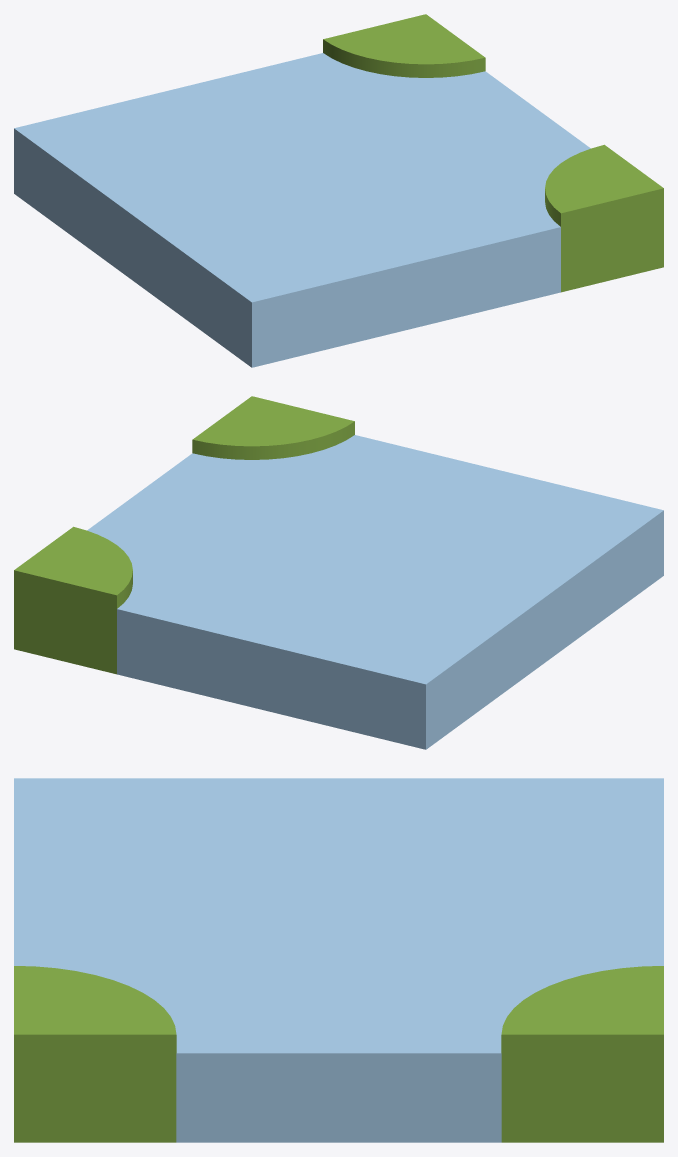
Rendered from tile097.fbx.
3 views of the same model, one above another, from view 1: azimuth 30°, elevation 25°; view 2: azimuth 150°, elevation 25°; view 3: azimuth 270°, elevation 25° (orthographic). The views are drawn at different scales.
Parts seen in each view (by area): view 1: tile097; view 2: tile097; view 3: tile097.
Part boxes in pixels (bbox=[...]): tile097: bbox=[14, 14, 663, 367]; tile097: bbox=[14, 396, 663, 749]; tile097: bbox=[14, 778, 663, 1142].
Size of the model in its own units: 10 by 1.83 by 10.
